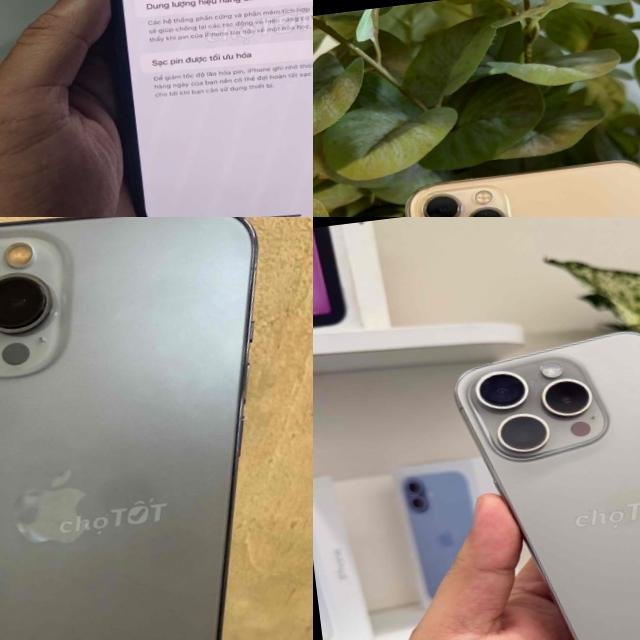gen_11: (391, 147, 640, 217)
gen_12_13: (0, 217, 313, 640), (75, 0, 313, 217)
gen_15: (428, 312, 640, 640)
